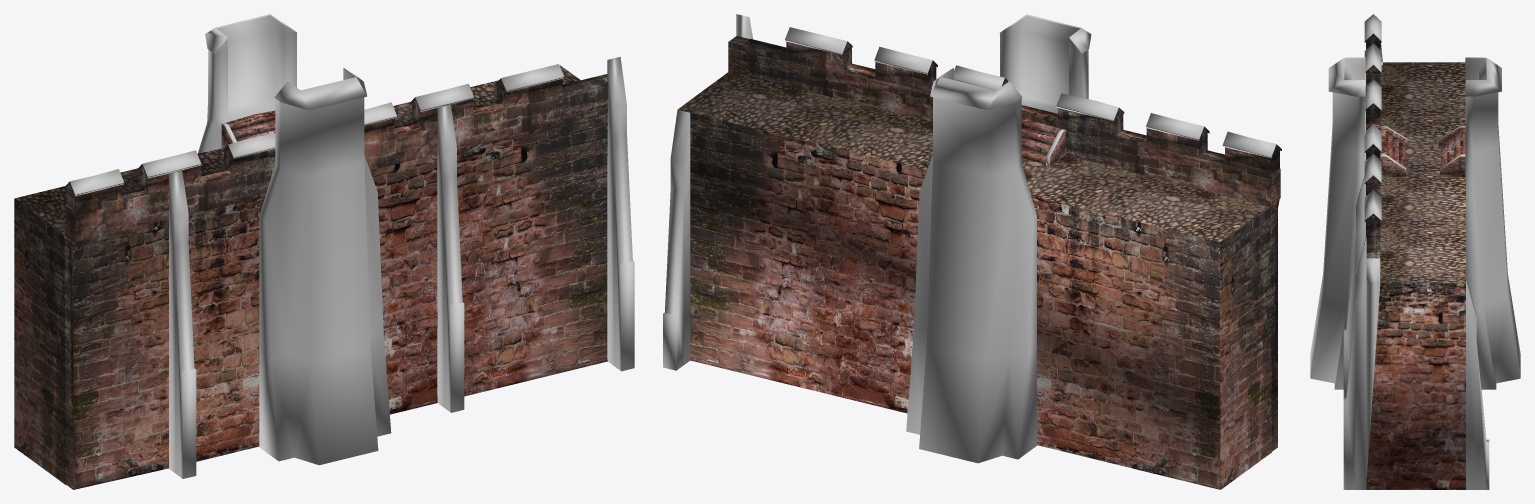
The model's file is WallAopposite.fbx.
3 views of the same model, side by side, from view 1: azimuth 30°, elevation 25°; view 2: azimuth 150°, elevation 25°; view 3: azimuth 270°, elevation 25° (orthographic). The views are drawn at different scales.
Visible parts, largest first — view 1: WallAopposite; view 2: WallAopposite; view 3: WallAopposite.
Boxes of the visible parts, bbox=[...] form: WallAopposite: bbox=[14, 14, 634, 489]; WallAopposite: bbox=[663, 14, 1281, 489]; WallAopposite: bbox=[1310, 14, 1520, 489].
Size of the model in its own units: 590 by 371 by 237.
